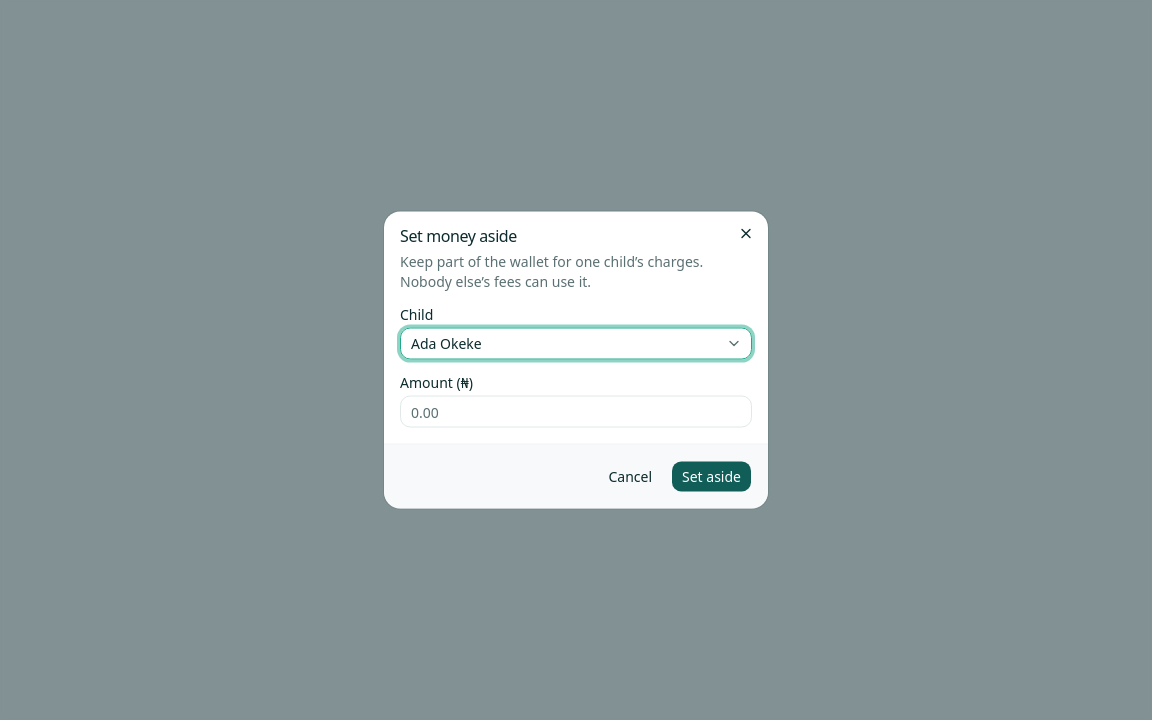
Test: EarmarkDialog set aside › refuses an empty amount
Click the button "Set aside": (712, 476) [671,460,752,492]
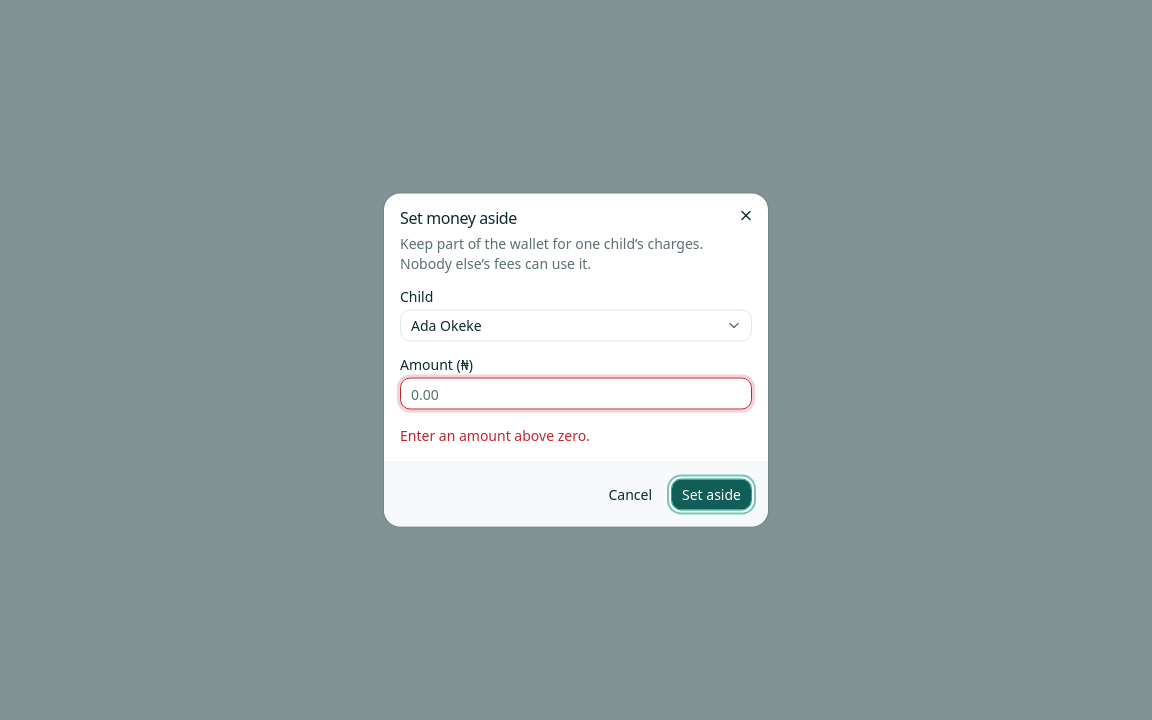
Now the message reads "Enter an amount above zero.", box [400,426,590,444]
